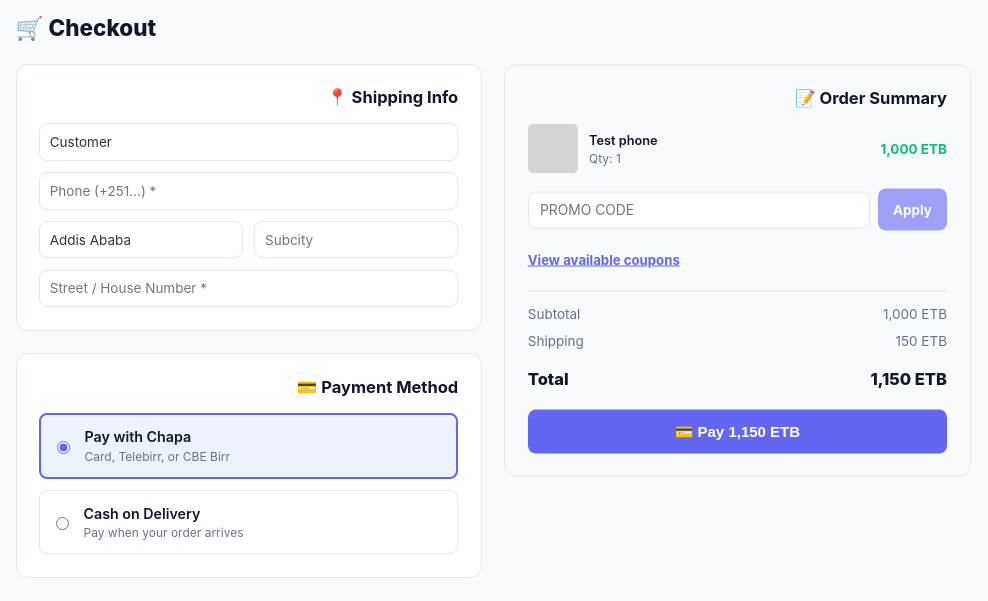
Scenario: Checkout promo codes › prevents duplicate application of already applied coupon
Type "SAVE15" into the field labelled "Promo code". click: point(699, 210)
box: [528, 191, 870, 229]
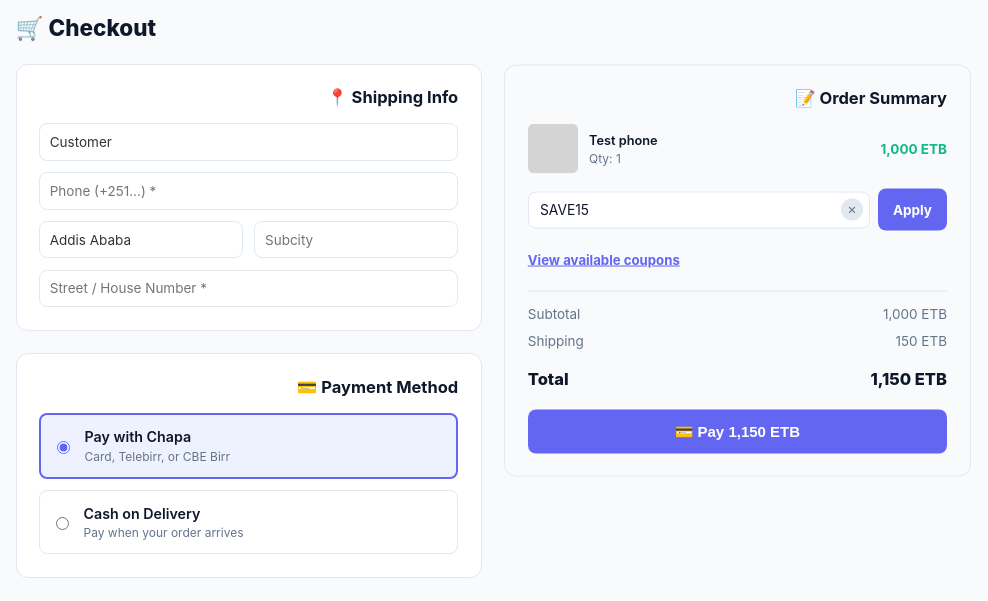
Click the button "Apply". click: point(912, 210)
box: [878, 189, 947, 231]
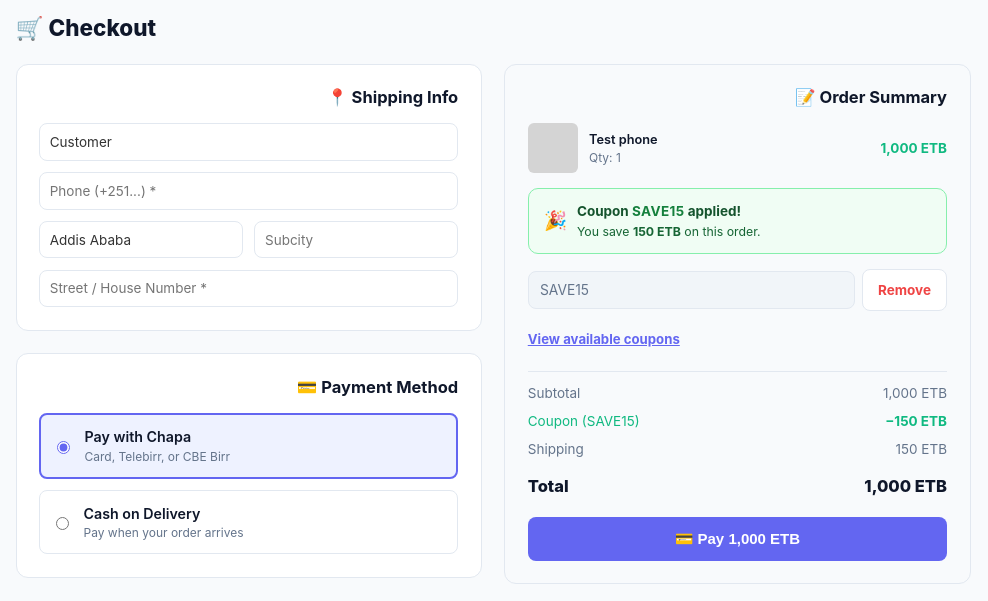
Result: the text "Coupon (SAVE15)" is shown at [528, 411, 640, 431]
Now try applying again
Click the button "Remove". click: point(904, 290)
box: [862, 269, 947, 311]
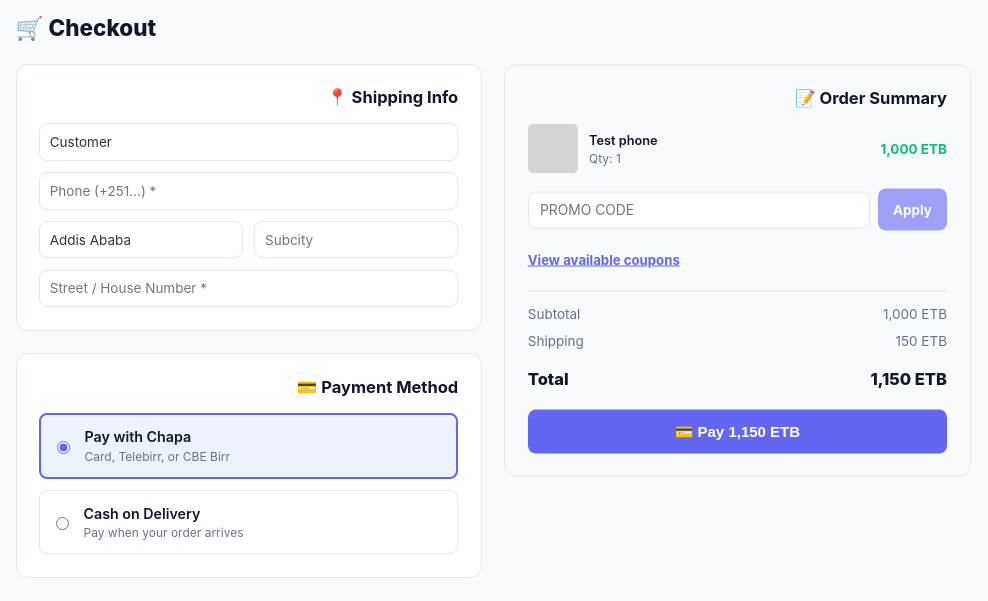
Result: the text "Coupon (SAVE15)" is gone
